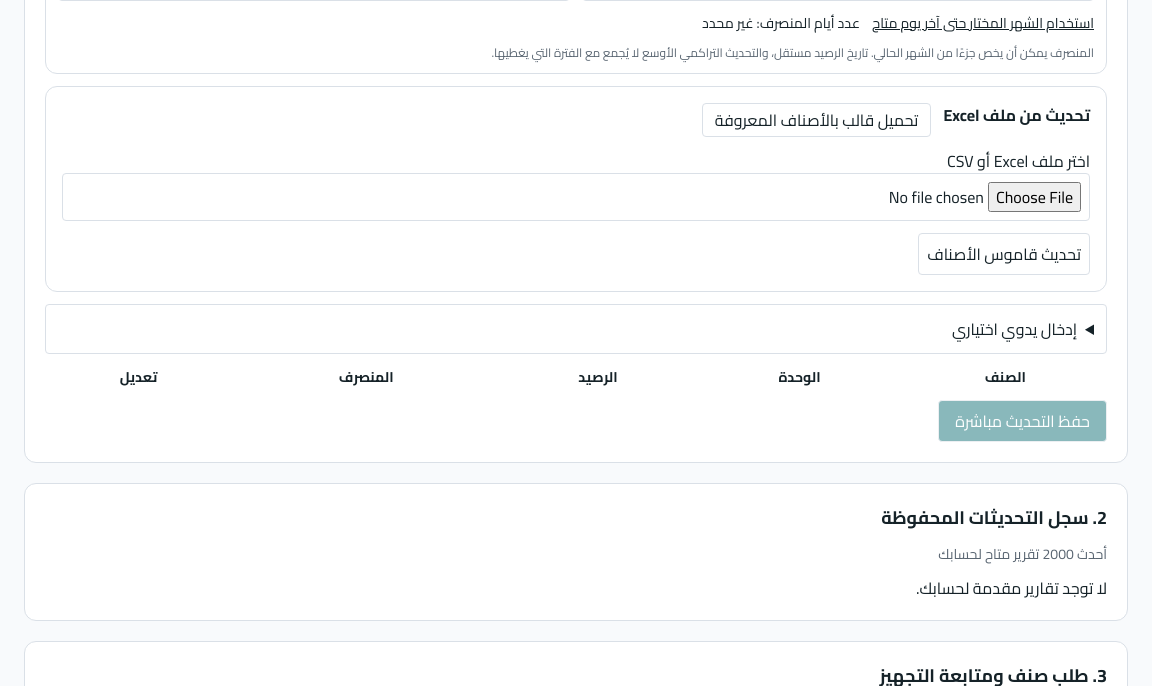
saves a real zero directly in a monthly report for the assigned branch
(page scrolled)
Step 1. Click the heading "إدخال يدوي اختياري" → (1015, 329), box [952, 314, 1077, 344]
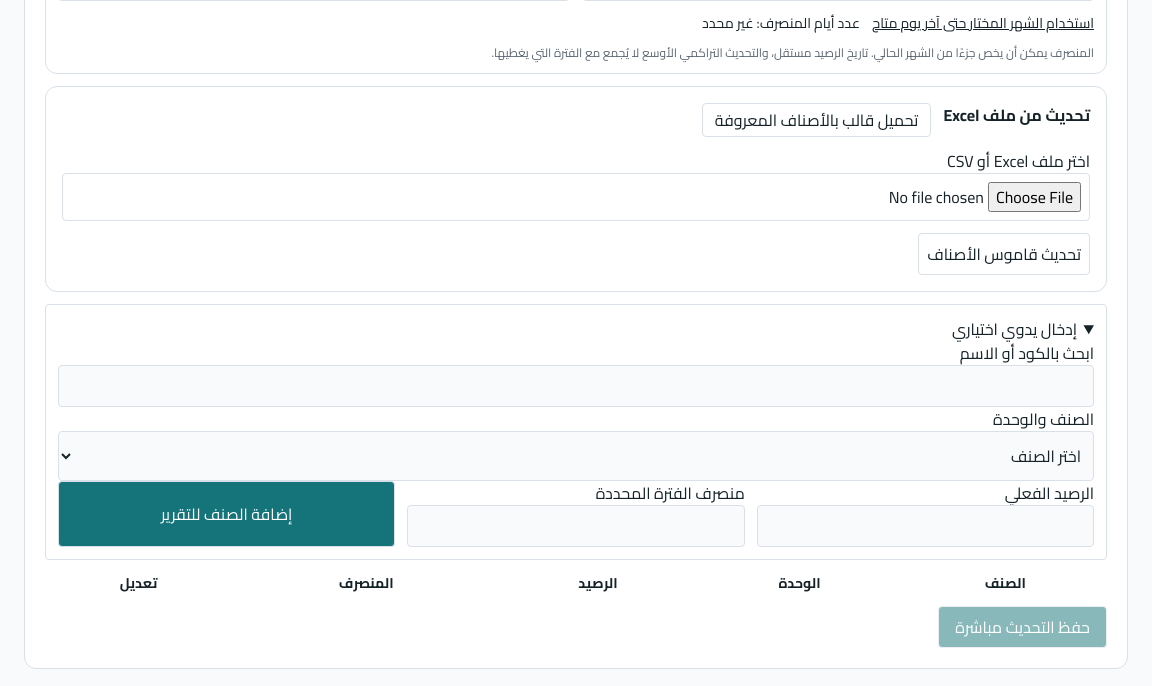
Step 2. Select "M1 - Test medicine (tablet)" in the dropdown labelled "الصنف والوحدة" → (576, 456), box [58, 431, 1094, 481]
Step 3. Type "0" into the number field labelled "الرصيد الفعلي" → (925, 526), box [757, 505, 1094, 547]
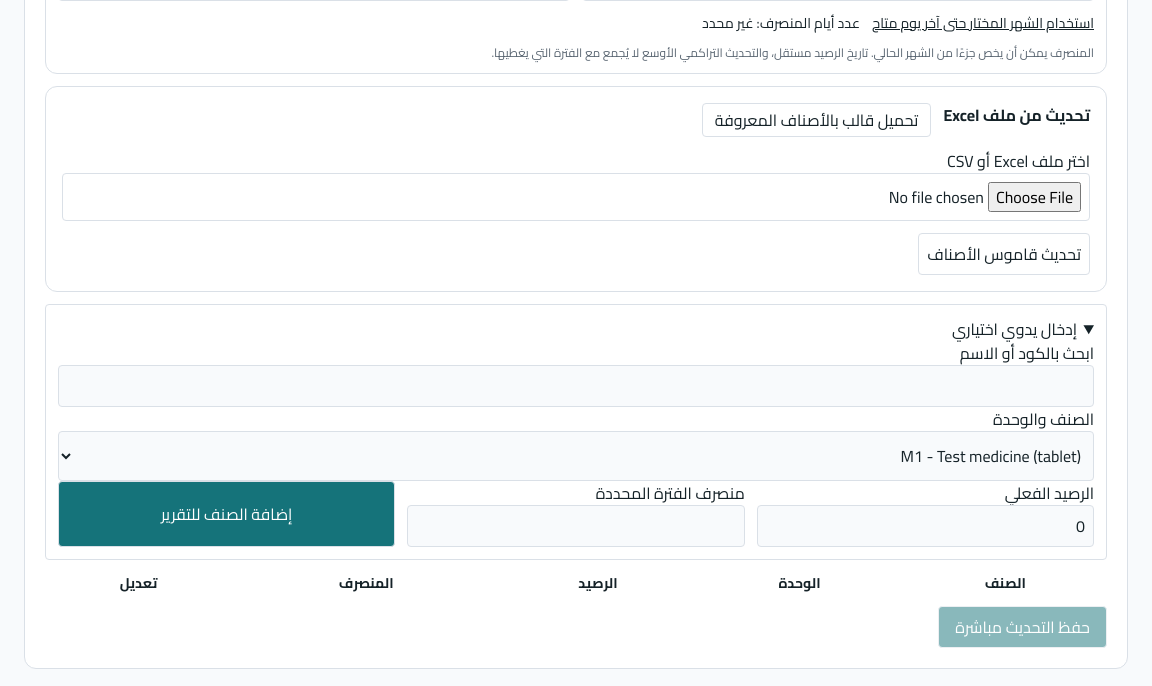
Step 4. Type "0" into the number field labelled "منصرف الفترة المحددة" → (576, 526), box [407, 505, 745, 547]
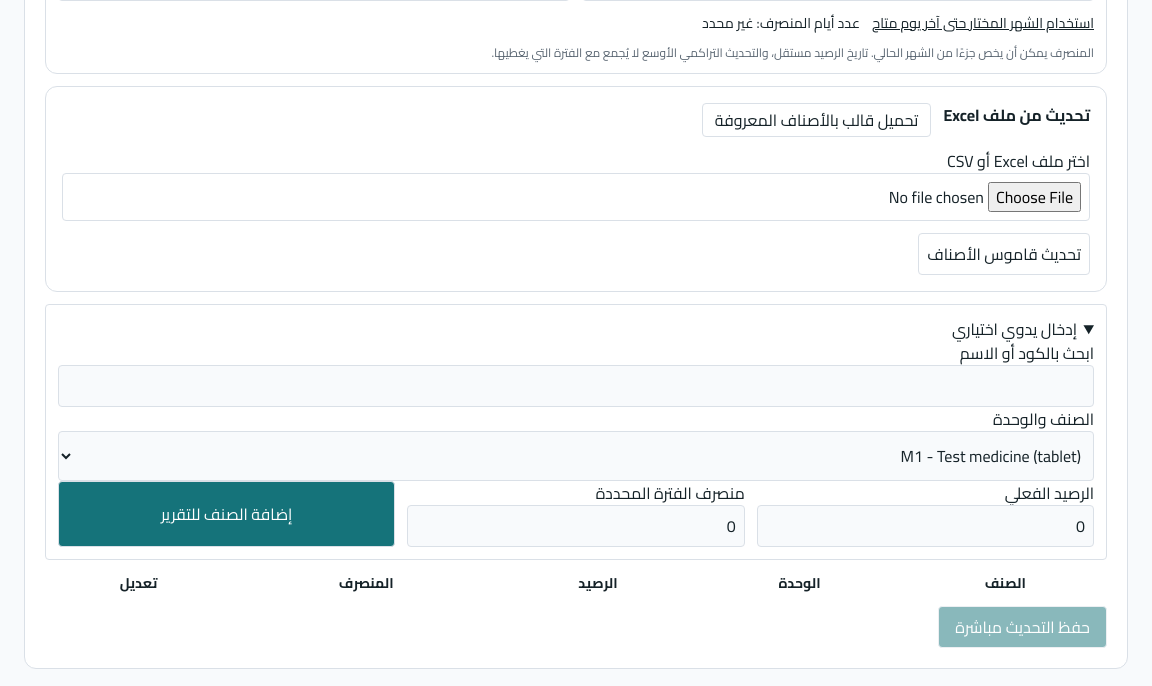
Step 5. Click the button "إضافة الصنف للتقرير" → (227, 514), box [58, 481, 395, 547]
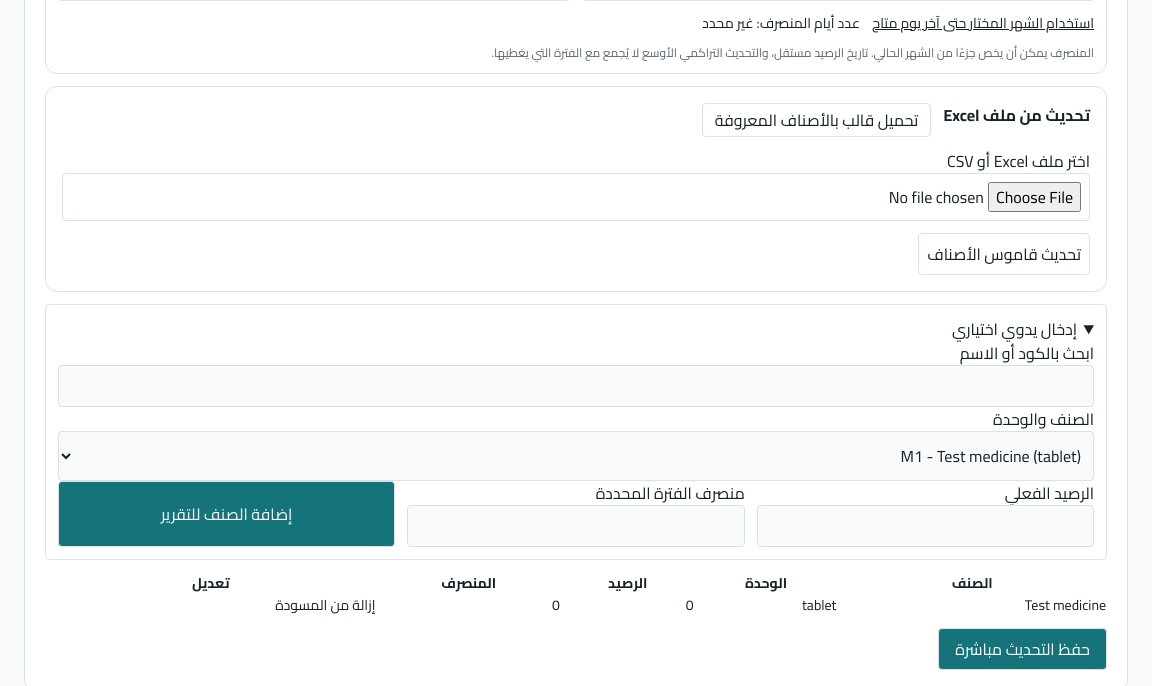
Step 6. Click the button "استخدام الشهر المختار حتى آخر يوم متاح" → (983, 23), box [872, 13, 1094, 33]
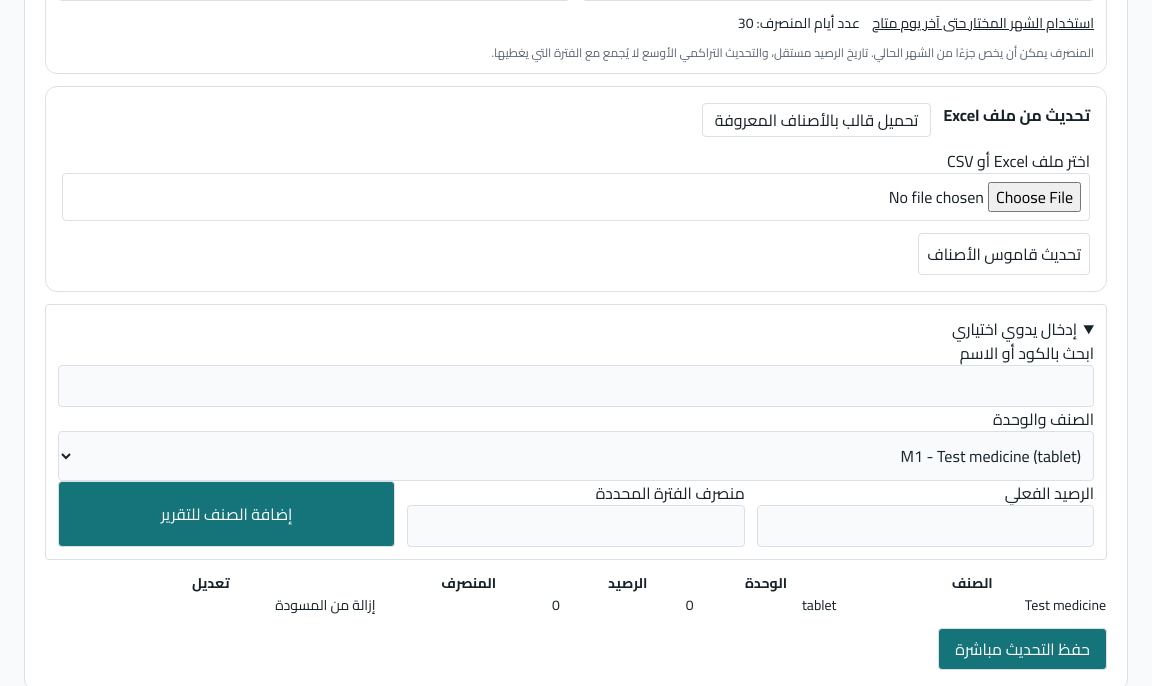
Step 7. Click the button "حفظ التحديث مباشرة" → (1023, 649), box [938, 628, 1107, 670]
(page scrolled)
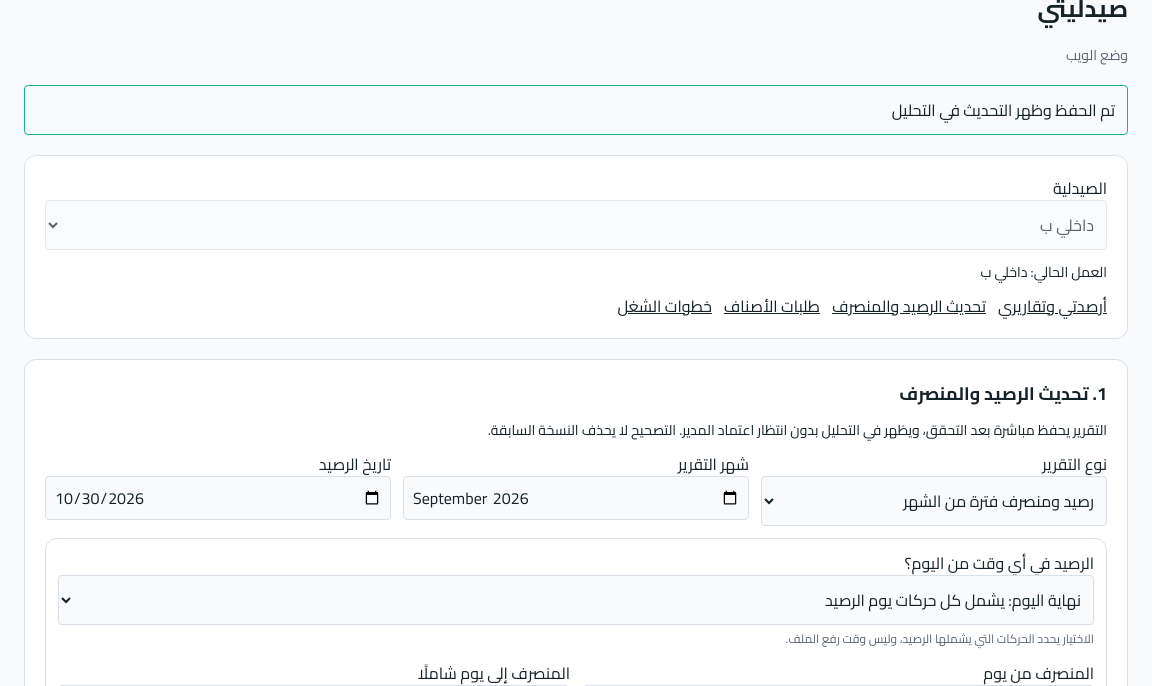
Expected: the message shows "ظهر التحديث في التحليل", [892, 95, 1115, 125]
